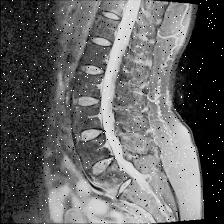disc: (74, 62, 108, 80), (88, 33, 114, 52), (99, 7, 122, 25)
hdisc: (86, 156, 120, 178), (77, 127, 106, 145), (71, 94, 102, 110)
